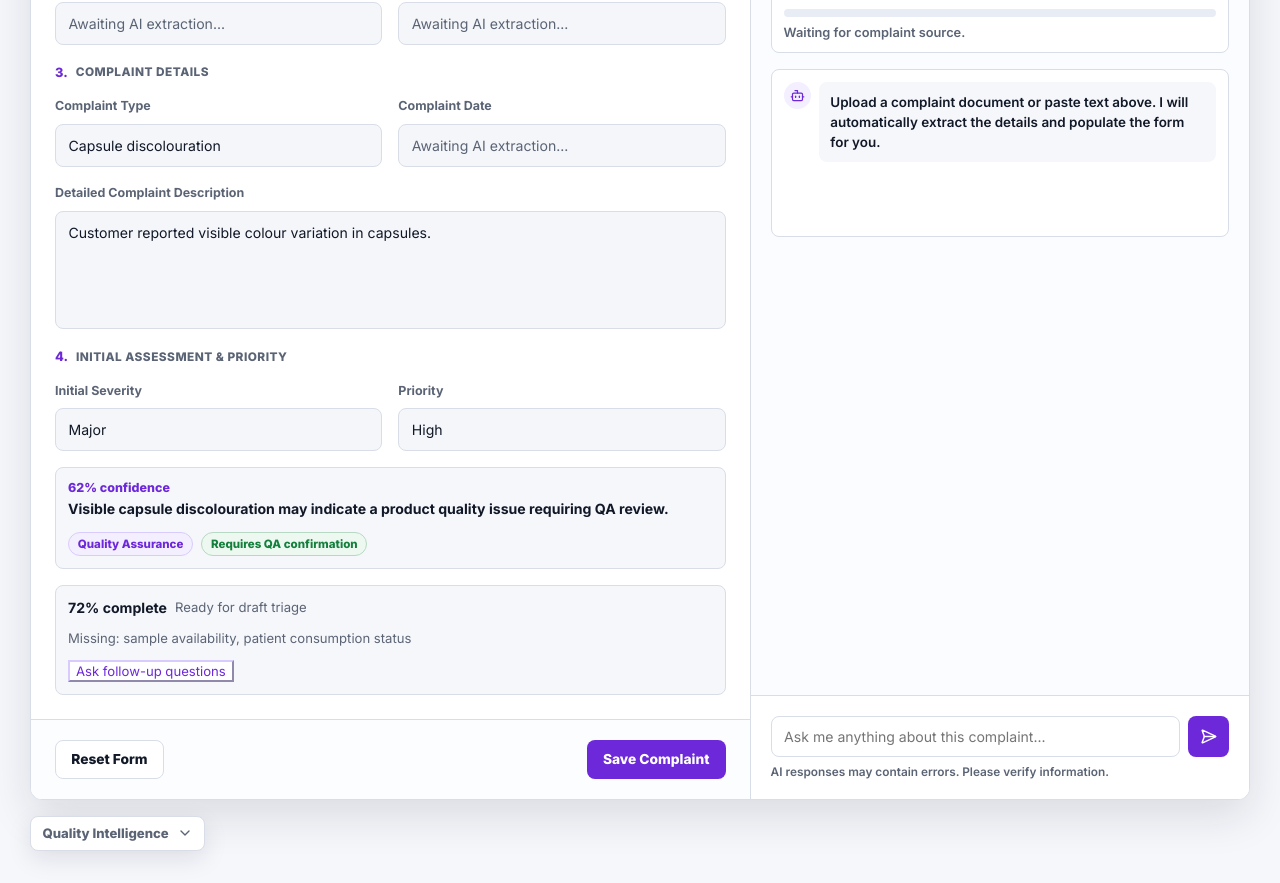
Test: App › inspector replay stays inside Evidence and Audit dock tab
The image size is (1280, 883).
(page scrolled)
Click the button "Quality Intelligence" at point(118, 833), box x1=30 y1=816 x2=205 y2=850
(page scrolled)
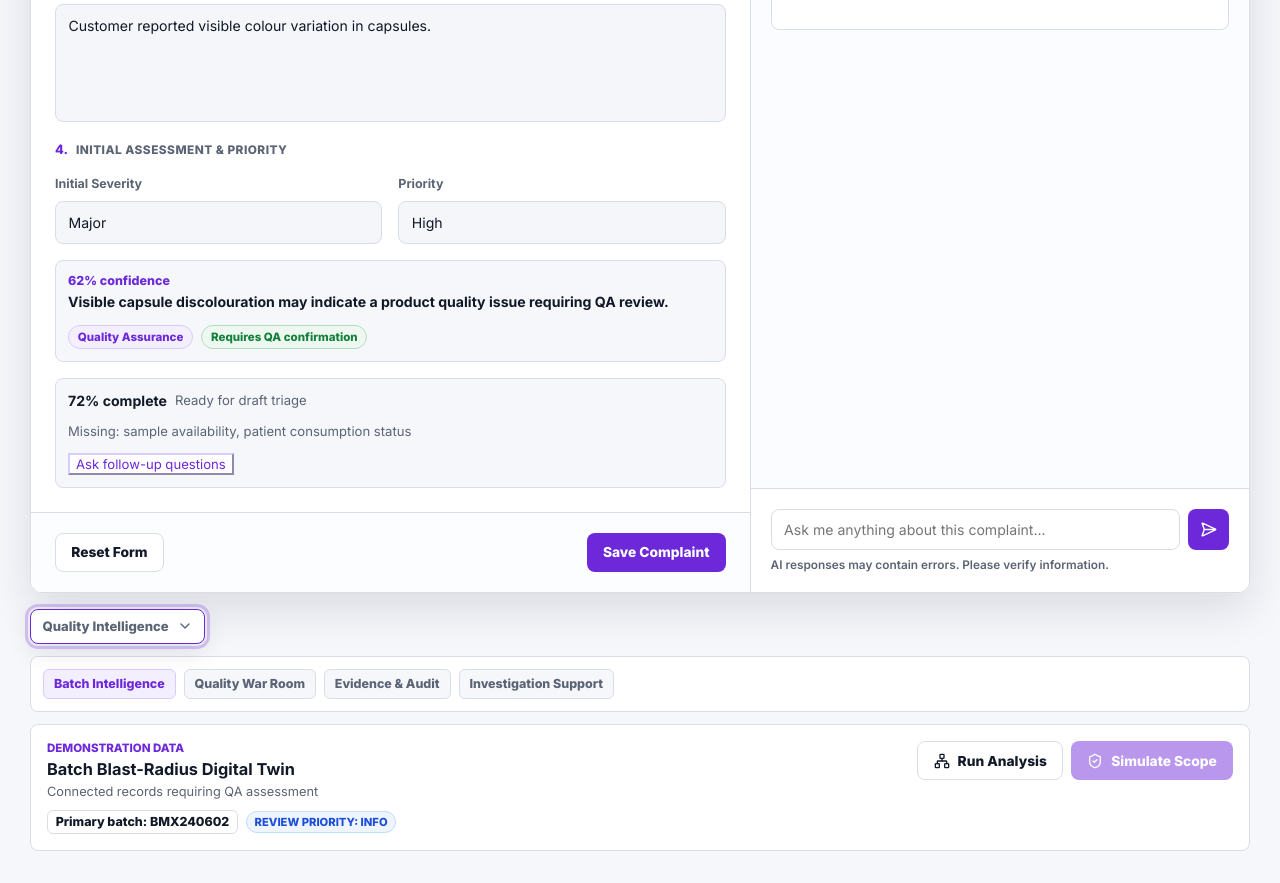
Click the tab "Evidence & Audit" at point(387, 684), box x1=324 y1=668 x2=450 y2=699
(page scrolled)
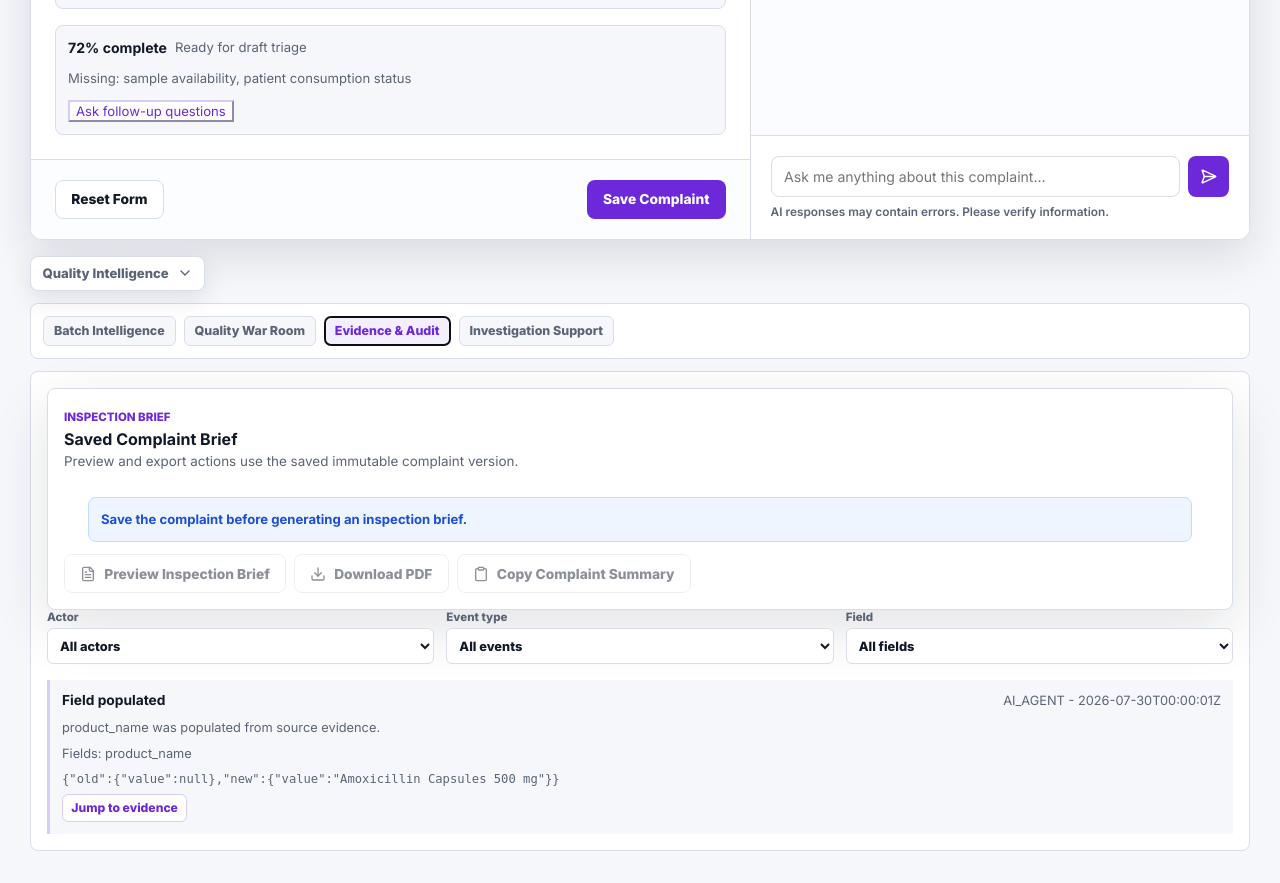
Expected: the element with test id "inspector-replay" is shown, x1=47 y1=610 x2=1233 y2=834
Expected: the text "Field populated" is shown, x1=62 y1=692 x2=165 y2=711
Expected: the element named "Inspector Replay filters" is shown, x1=47 y1=610 x2=1233 y2=664
